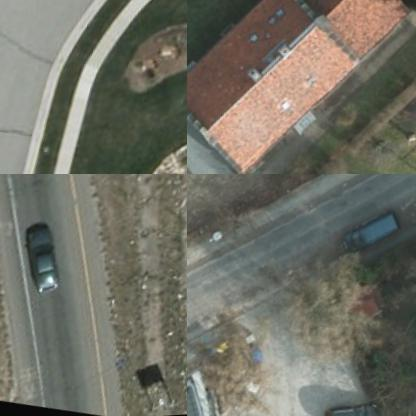car: (12, 217, 82, 299), (342, 206, 408, 260), (329, 392, 389, 415)
